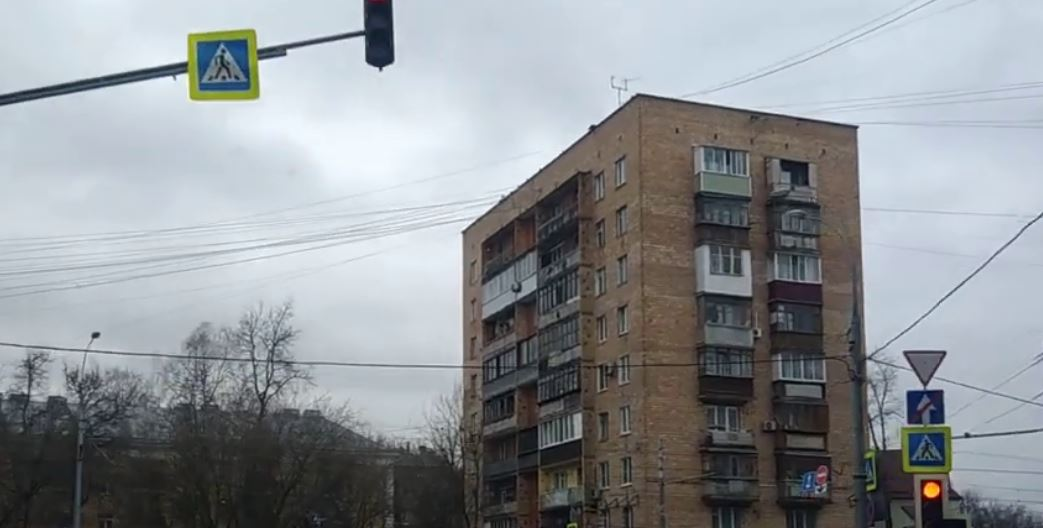Yaya Gecidi: (196, 39, 249, 93), (911, 429, 950, 465)
Yol Ver: (902, 349, 948, 389)
